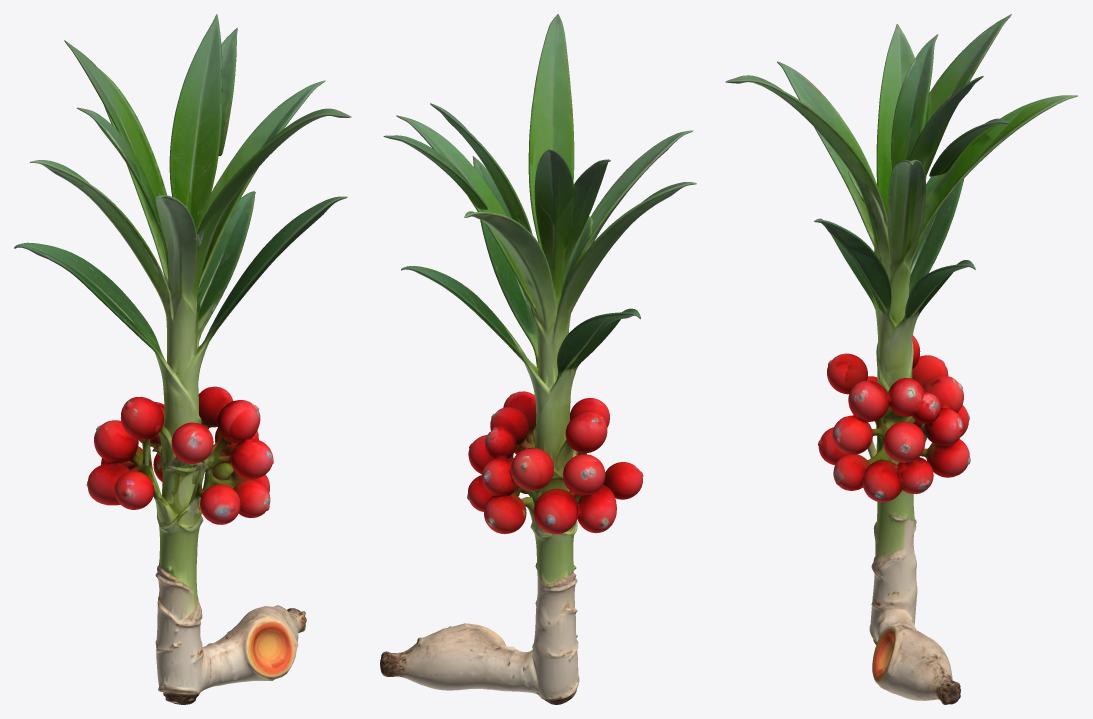
The model's file is hongdoukou.glb.
3 views of the same model, side by side, from view 1: azimuth 30°, elevation 25°; view 2: azimuth 150°, elevation 25°; view 3: azimuth 270°, elevation 25° (orthographic). The views are drawn at different scales.
Visible parts, largest first — view 1: node_0; view 2: node_0; view 3: node_0.
Part boxes in pixels (box(x1,y1,x2,y2)): node_0: box(14, 14, 351, 704); node_0: box(380, 14, 696, 704); node_0: box(725, 14, 1077, 704).
Size of the model in its own units: 0.5247 by 1.05 by 0.5473.
Materials: 1 (1 with a texture image).
